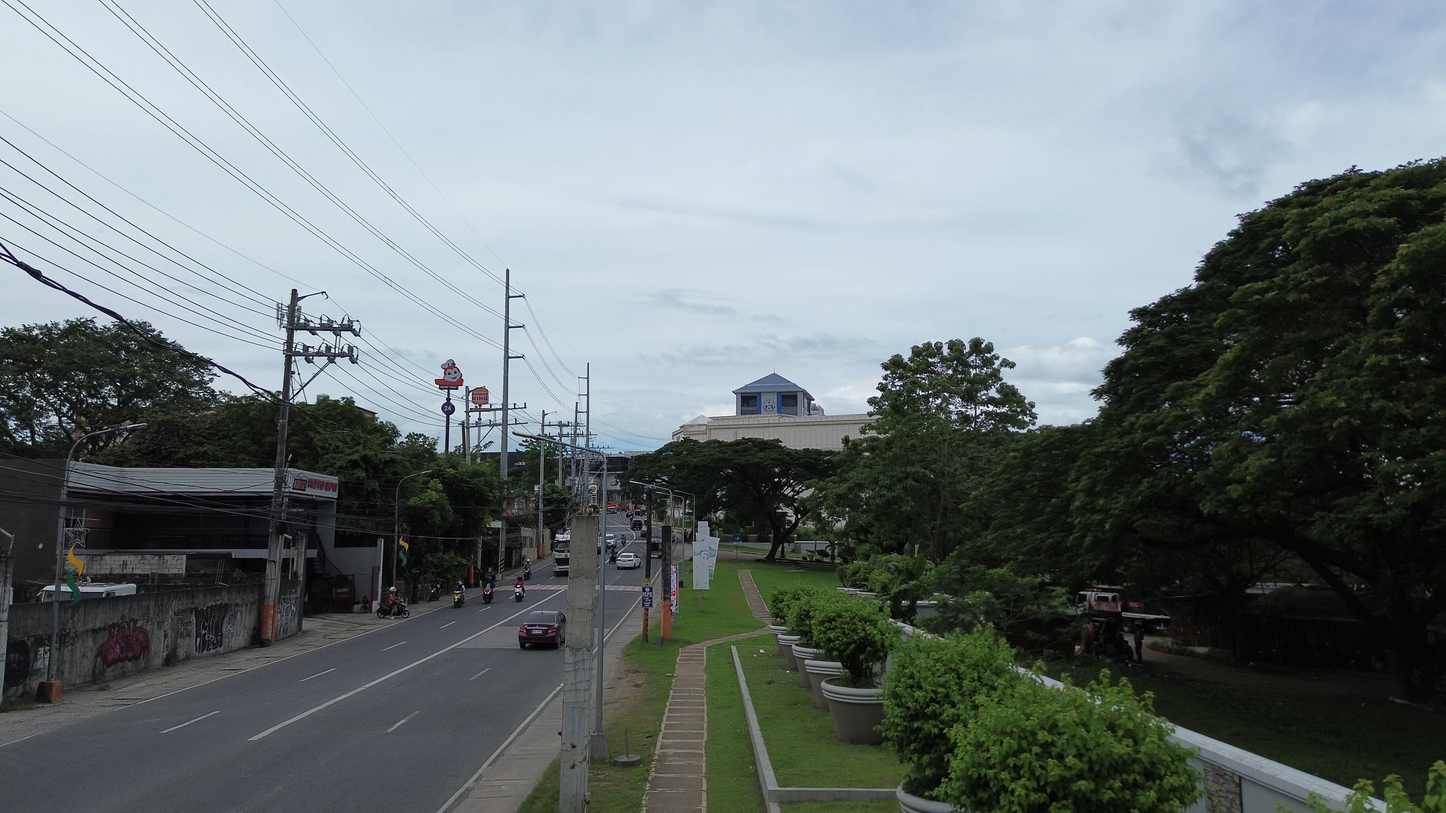car: (518, 611, 566, 648), (616, 551, 641, 569)
motorcycle: (377, 602, 393, 618), (428, 583, 440, 601), (522, 560, 532, 580), (514, 585, 525, 602)
vehicle: (552, 534, 569, 575), (428, 582, 441, 601), (395, 600, 409, 617), (482, 586, 494, 604), (522, 560, 532, 580), (454, 590, 465, 607), (631, 519, 644, 531)
